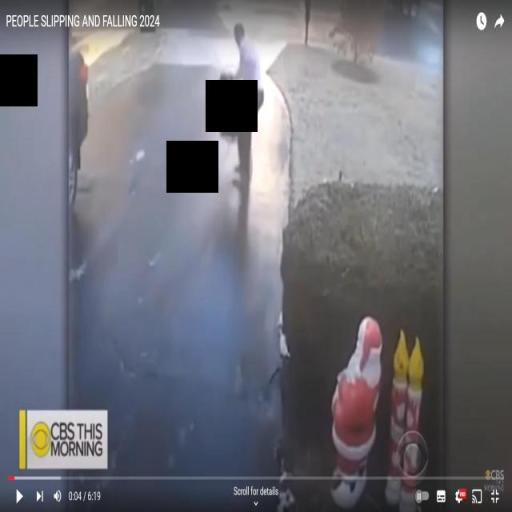Fall: (225, 18, 266, 197)
